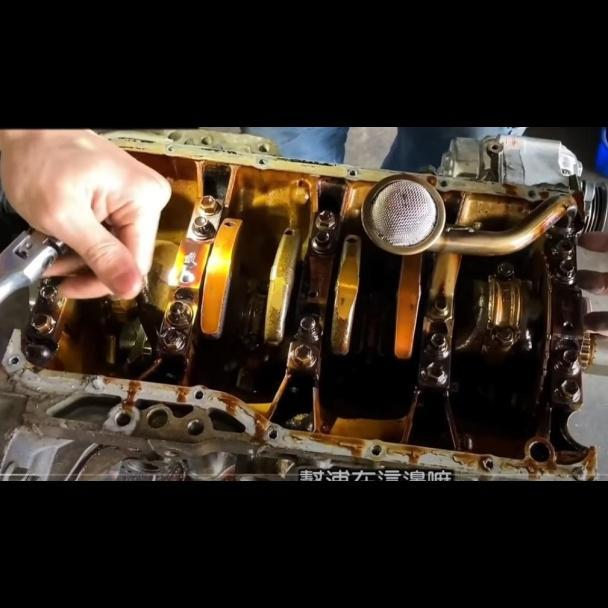hole: (488, 140, 501, 153), (369, 443, 381, 457), (481, 460, 494, 471), (193, 390, 205, 401), (9, 355, 20, 366), (347, 167, 359, 177), (526, 188, 536, 199), (267, 430, 277, 439), (257, 158, 266, 166), (167, 145, 176, 152), (441, 180, 448, 187)
